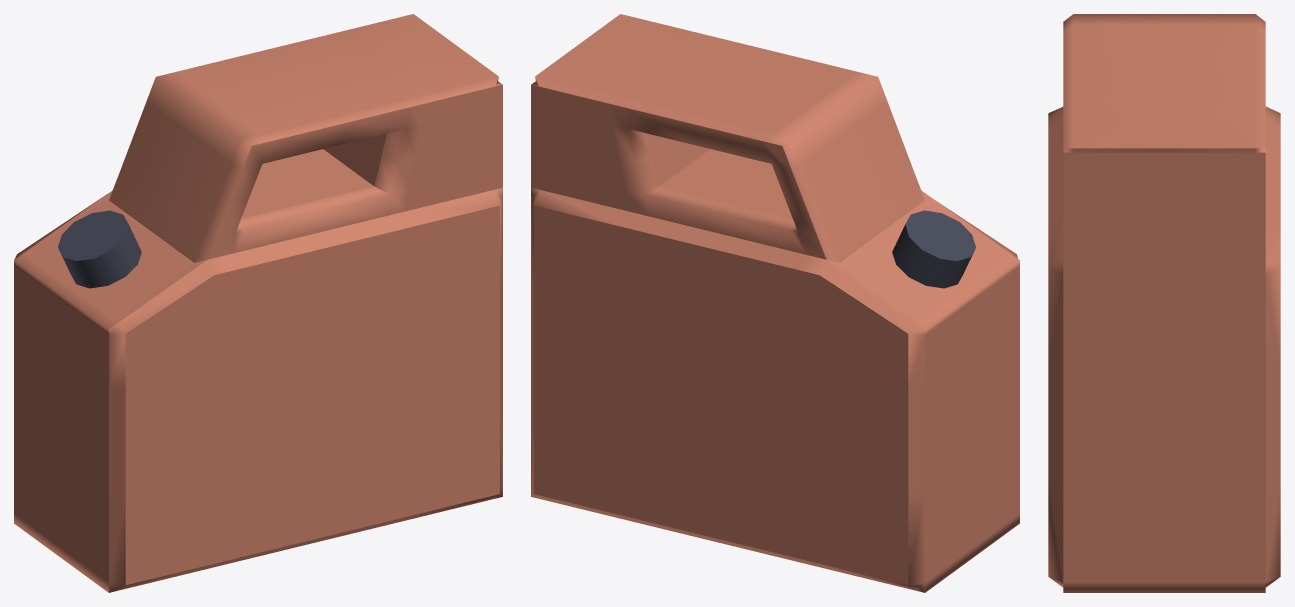
Rendered from Jerry Can (1).fbx.
The picture shows the model from 3 angles, left to right: view 1: azimuth 30°, elevation 25°; view 2: azimuth 150°, elevation 25°; view 3: azimuth 270°, elevation 25°; orthographic projection. The views are drawn at different scales.
Parts seen in each view (by area): view 1: pCube2; view 2: pCube2; view 3: pCube2.
Part boxes in pixels (x1,y1,x2,y2): pCube2: (14, 14, 502, 592); pCube2: (531, 14, 1019, 592); pCube2: (1048, 14, 1280, 592).
Size of the model in its own units: 12.02 by 12.13 by 5.74.
